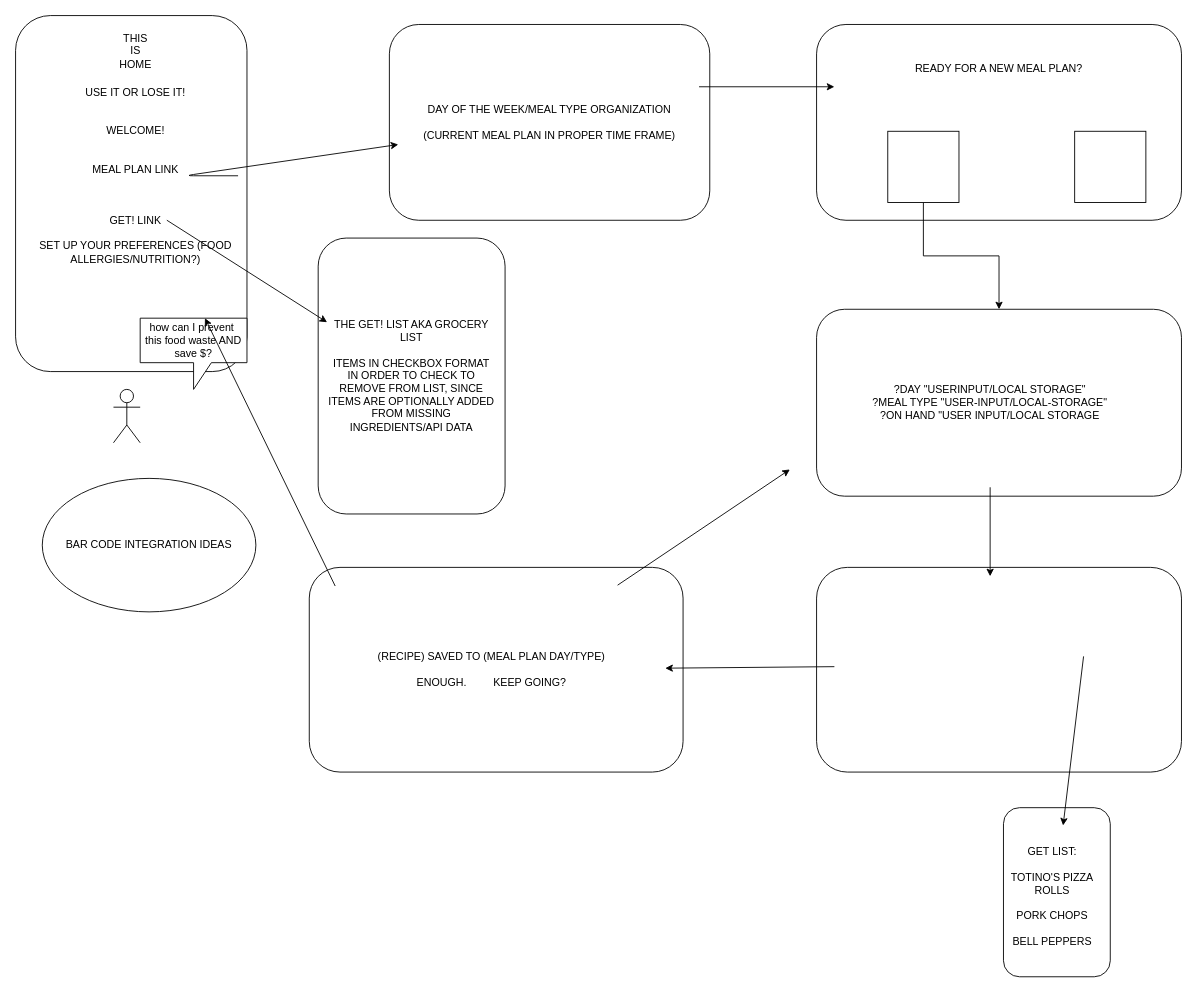
The diagram is 1197 pixels wide and 992 high, and some of its shapes have lost their labels. The shapes that lost their labels are listed below. From the top down, each one's box as (x1, y1, x2, y2) in pixels, then its label:
(887, 130, 959, 202): YES!
(1074, 130, 1146, 202): NO = BACK TO HOME
(113, 388, 140, 443): Actor
(816, 566, 1181, 772): RECIPES(1-5): MISSING INGREDIENTS/ADD TO GET? RECIPE (OPTIONS) SAVE? DISCARD?
